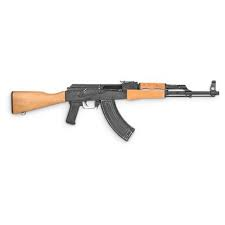gun: (11, 79, 220, 142)
